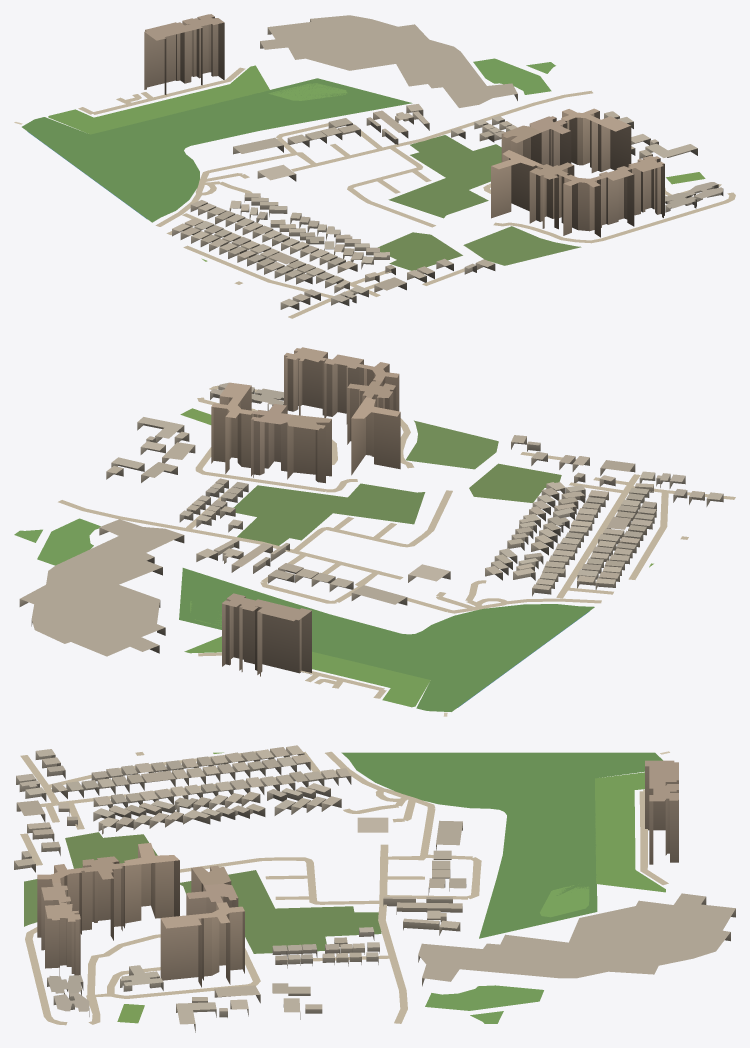
3 renders of one model, top to bottom at view 1: azimuth 30°, elevation 25°; view 2: azimuth 150°, elevation 25°; view 3: azimuth 270°, elevation 25°, orthographic. The views are drawn at different scales.
Parts seen in each view (by area): view 1: building, ground; view 2: building, ground; view 3: building, ground.
Boxes of the visible parts, <box> form: building: <box>144,14,723,310</box>; ground: <box>14,58,735,318</box>; building: <box>19,347,723,676</box>; ground: <box>14,385,735,716</box>; building: <box>14,745,735,1032</box>; ground: <box>20,751,669,1025</box>.
Bounding box in the file's own units: 519 × 59.95 × 562.
